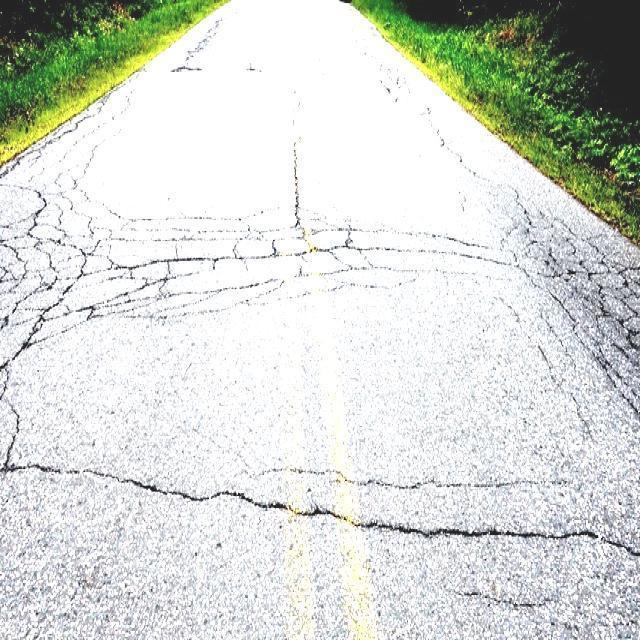GRIETA: (0, 463, 639, 557), (423, 103, 529, 214), (266, 467, 567, 489), (171, 17, 224, 72), (455, 591, 553, 609), (3, 403, 19, 470), (293, 143, 299, 205)
PIEL DE COCODRILO: (0, 65, 504, 402), (496, 209, 639, 433)
